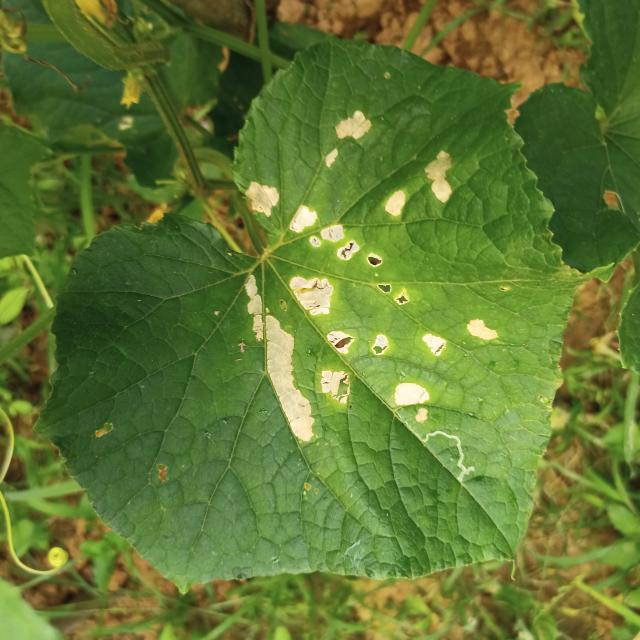disease_cucumber: (239, 154, 497, 442), (382, 150, 458, 224), (319, 104, 377, 172)
